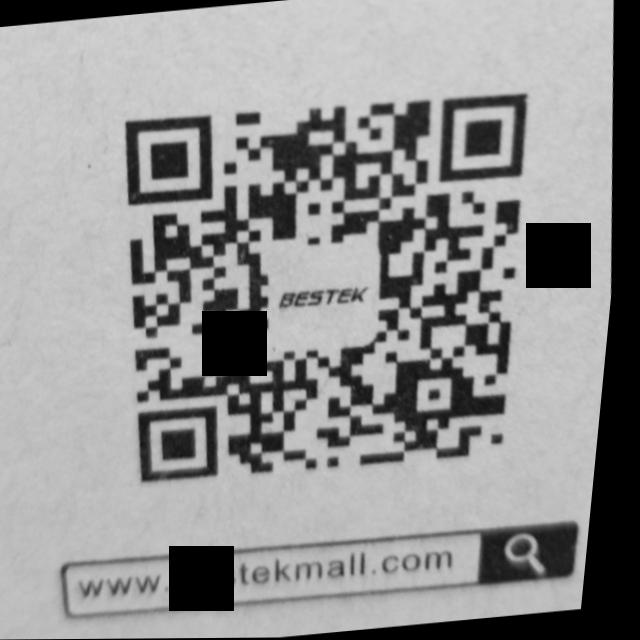QR_CODE: (72, 59, 594, 513)
